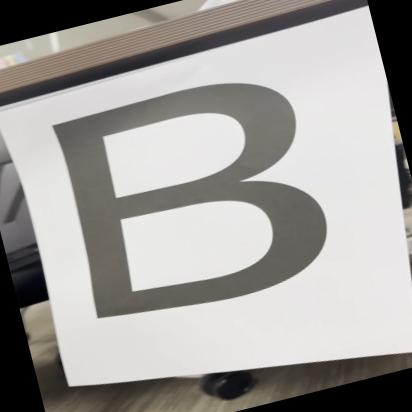seat: (25, 50, 373, 358)
